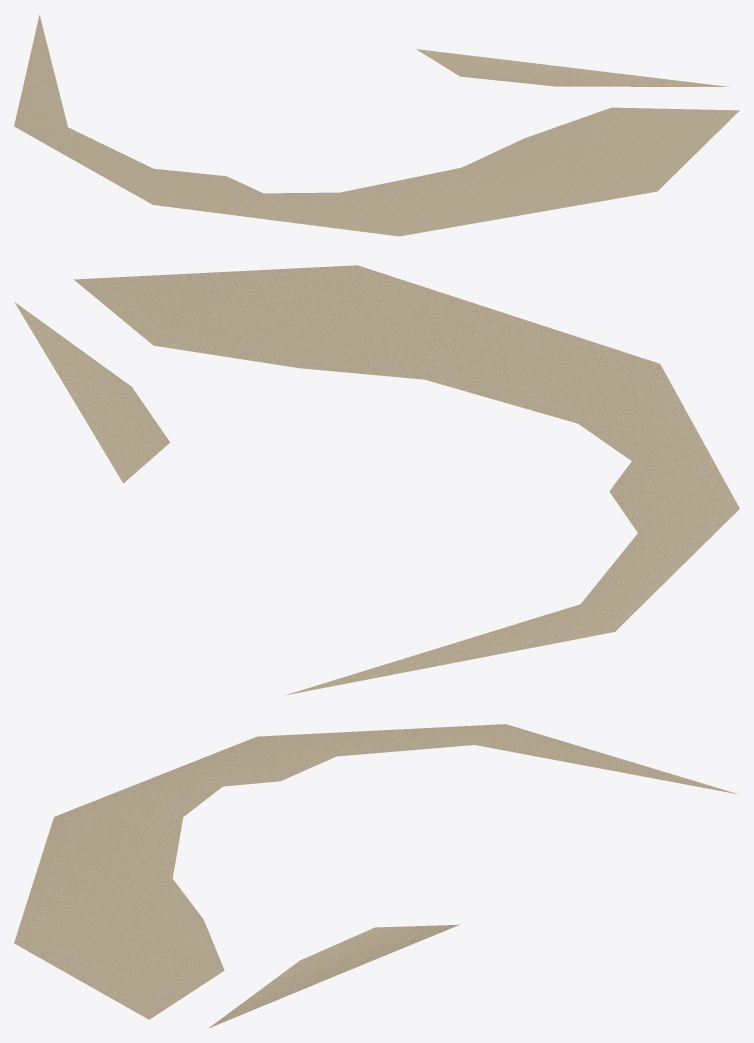
The model's file is kd_stage_1363c5_8_0_bounded.glb.
3 renders of one model, top to bottom at view 1: azimuth 30°, elevation 25°; view 2: azimuth 150°, elevation 25°; view 3: azimuth 270°, elevation 25°, orthographic. The views are drawn at different scales.
Visible parts, largest first — view 1: kd_stage_1363c5_8_0_bounded; view 2: kd_stage_1363c5_8_0_bounded; view 3: kd_stage_1363c5_8_0_bounded.
Boxes of the visible parts, left/top/right/bottom form: kd_stage_1363c5_8_0_bounded: left=14, top=15, right=739, bottom=236; kd_stage_1363c5_8_0_bounded: left=14, top=265, right=739, bottom=695; kd_stage_1363c5_8_0_bounded: left=14, top=724, right=737, bottom=1028.
Bounding box in the file's own units: 34.12 × 0.0193 × 34.38.
Materials: 1 (1 with a texture image).
